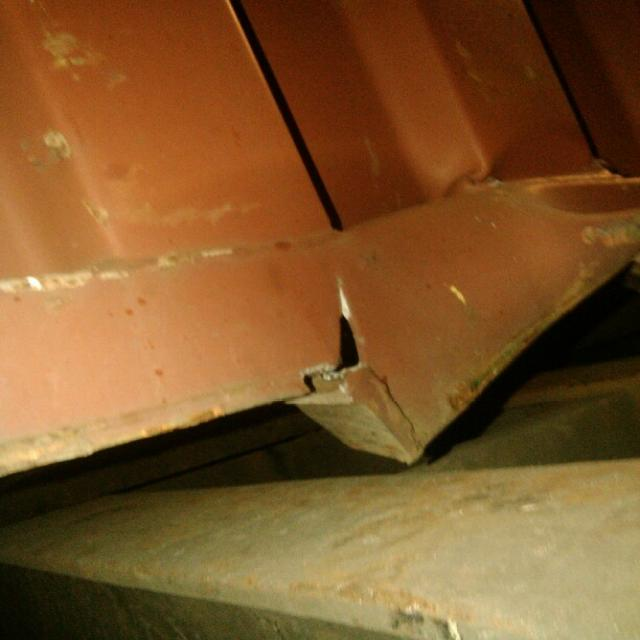dent: (277, 105, 640, 483)
